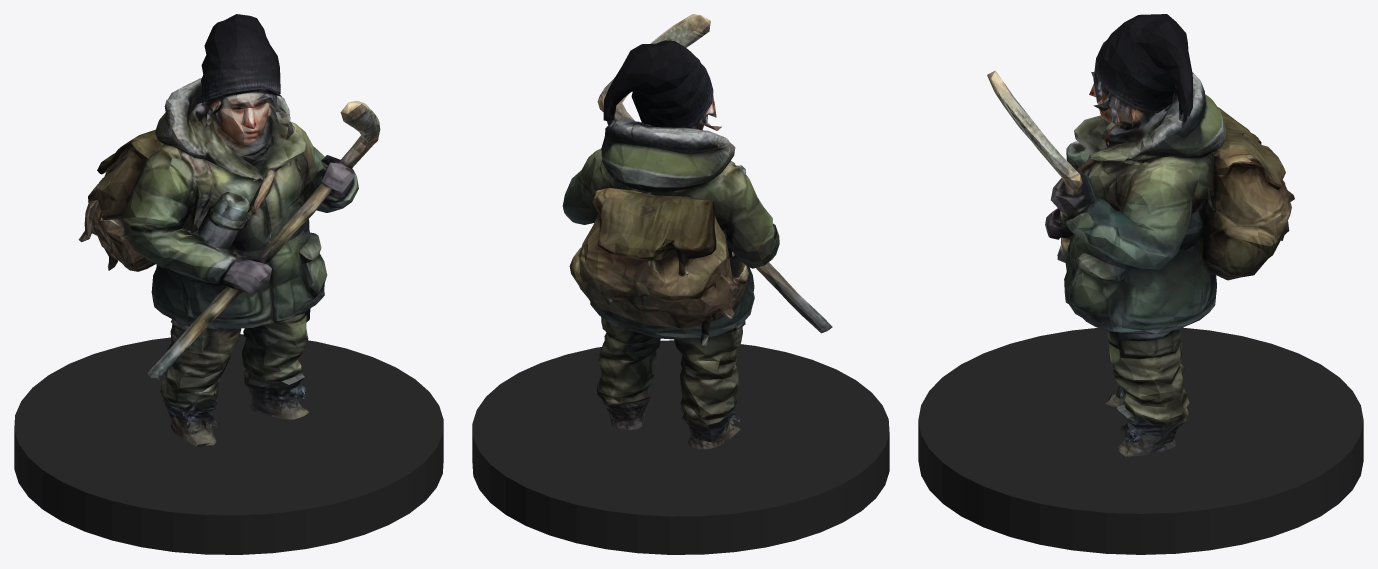
The model's file is bev-russell.glb.
The picture shows the model from 3 angles, left to right: view 1: azimuth 30°, elevation 25°; view 2: azimuth 150°, elevation 25°; view 3: azimuth 270°, elevation 25°; orthographic projection. The views are drawn at different scales.
Visible parts, largest first — view 1: base, figure; view 2: base, figure; view 3: base, figure.
Boxes of the visible parts, <box> form: base: <box>14,334,443,554</box>; figure: <box>78,14,380,446</box>; base: <box>472,340,889,554</box>; figure: <box>562,14,832,449</box>; base: <box>918,327,1363,554</box>; figure: <box>987,14,1294,456</box>.
Size of the model in its own units: 1.18 by 1.32 by 1.18.
2 materials, 1 textured.
